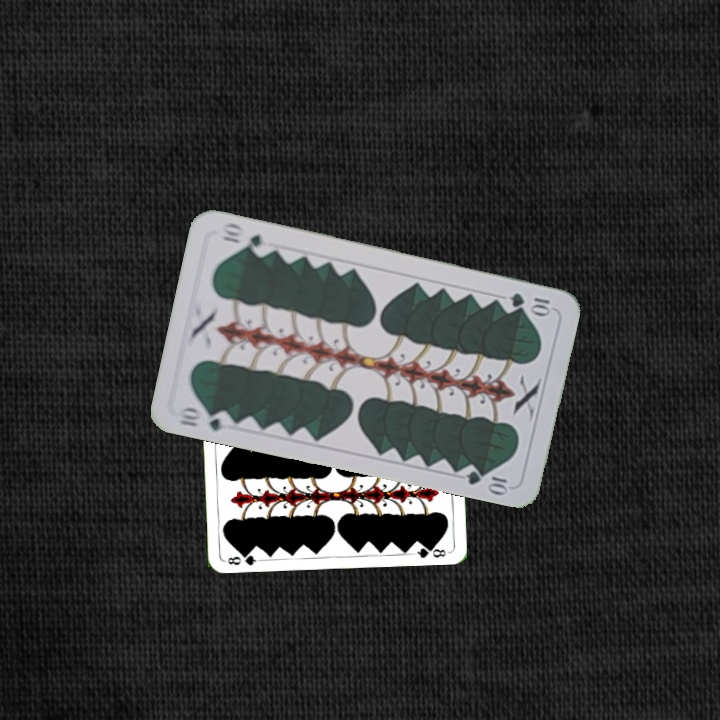G10: (174, 403, 234, 434), (506, 289, 555, 316)
G8: (222, 548, 262, 568)
